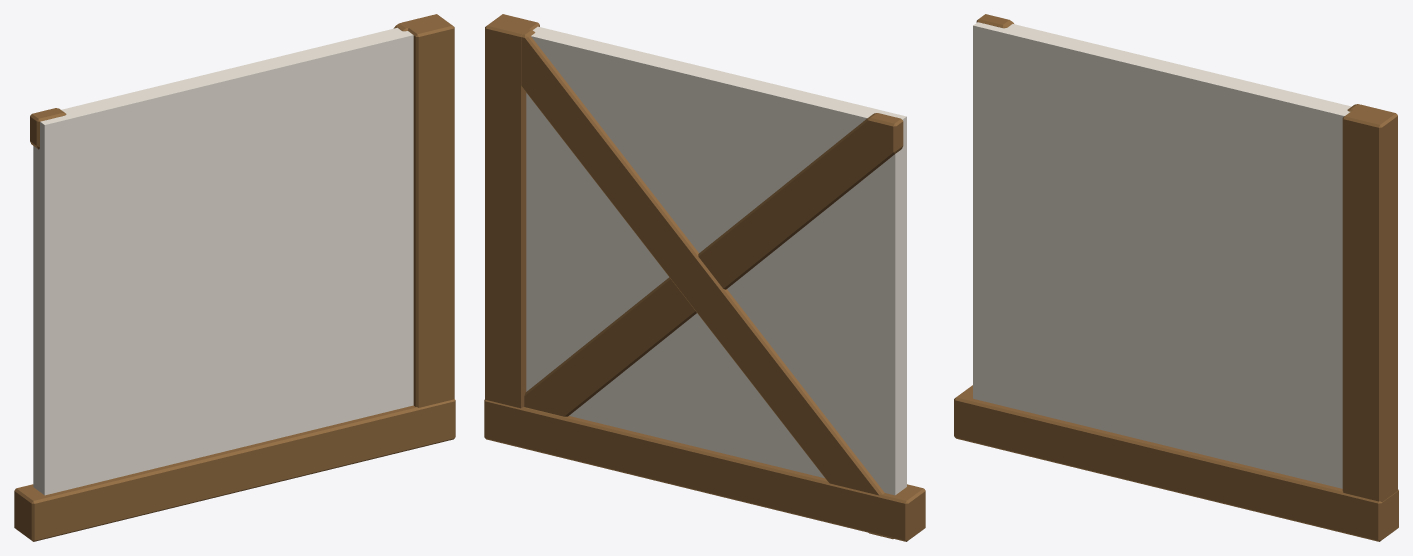
File: WallCrossX.fbx
3 renders of one model, left to right at view 1: azimuth 30°, elevation 25°; view 2: azimuth 150°, elevation 25°; view 3: azimuth 330°, elevation 25°, orthographic.
Visible parts, largest first — view 1: Cube.072, Cube.084, Cube.080, Cube.083; view 2: Cube.072, Cube.079, Cube.084, Cube.083, Cube.080; view 3: Cube.072, Cube.080, Cube.084.
Boxes of the visible parts, x1=… form: Cube.072: x1=33, y1=27, x2=413, y2=495; Cube.084: x1=14, y1=399, x2=455, y2=541; Cube.080: x1=402, y1=14, x2=454, y2=407; Cube.083: x1=30, y1=108, x2=66, y2=149; Cube.072: x1=526, y1=26, x2=906, y2=495; Cube.079: x1=521, y1=29, x2=893, y2=539; Cube.084: x1=484, y1=399, x2=925, y2=541; Cube.083: x1=524, y1=113, x2=903, y2=416; Cube.080: x1=485, y1=14, x2=539, y2=408; Cube.072: x1=973, y1=22, x2=1351, y2=488; Cube.080: x1=1342, y1=104, x2=1397, y2=502; Cube.084: x1=954, y1=385, x2=1398, y2=541.
Bounding box in the file's own units: 216 × 202 × 17.27.
